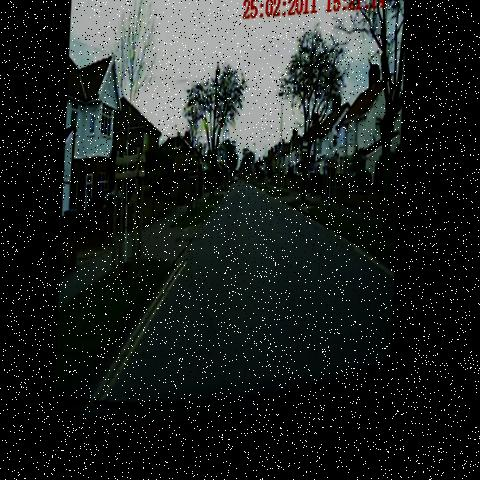pothole: (239, 223, 269, 244)
